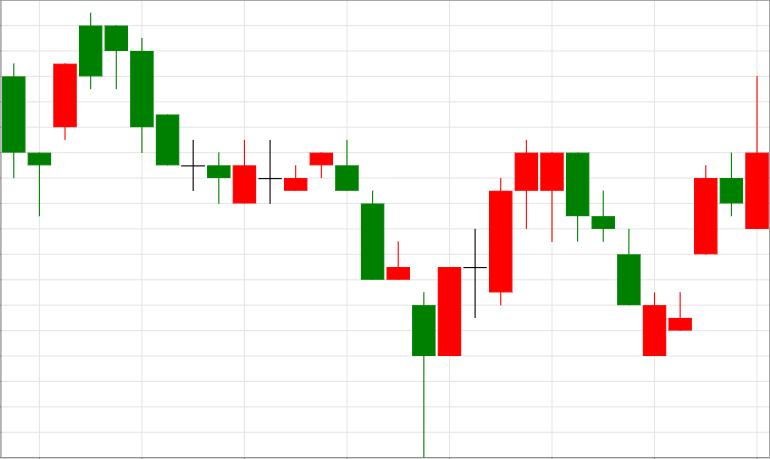bearish_engulfing_fall: (438, 139, 589, 356)
hanging_man_fall: (438, 139, 564, 356)
